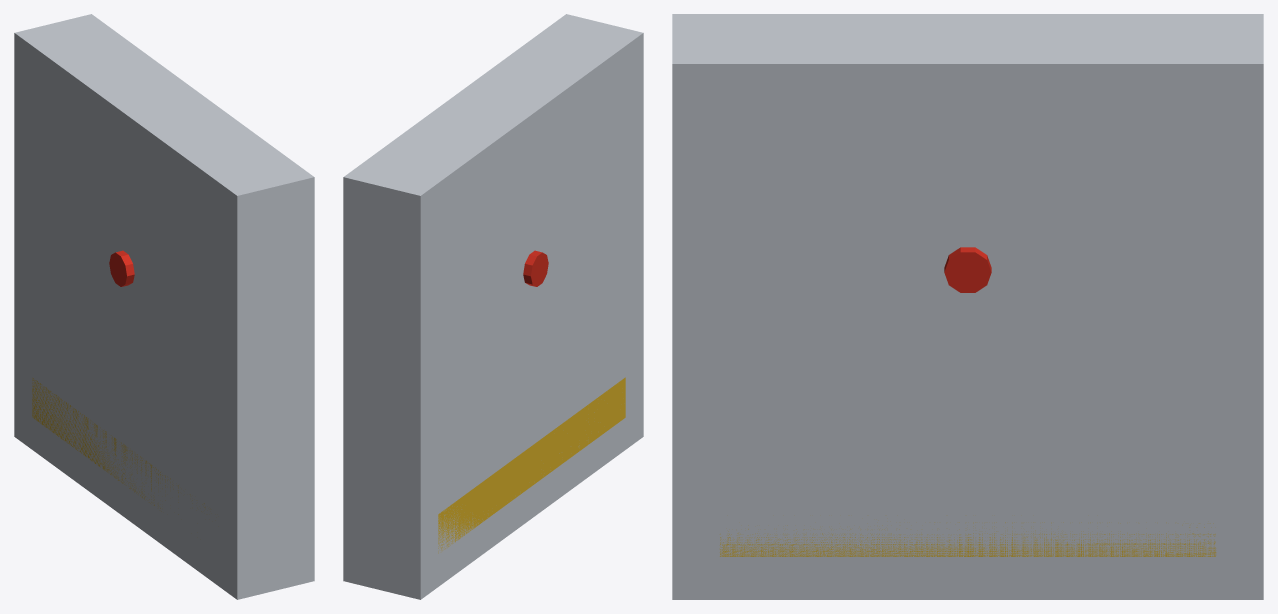
The model's file is blast_door_bottom_right.obj.
3 renders of one model, left to right at view 1: azimuth 30°, elevation 25°; view 2: azimuth 150°, elevation 25°; view 3: azimuth 270°, elevation 25°, orthographic. The views are drawn at different scales.
Parts seen in each view (by area): view 1: blast_door_bottom_right; view 2: blast_door_bottom_right; view 3: blast_door_bottom_right.
Boxes of the visible parts, x1,y1,x2,y2 form: blast_door_bottom_right: (14, 14, 314, 599); blast_door_bottom_right: (343, 14, 643, 599); blast_door_bottom_right: (672, 14, 1263, 599).
Bounding box in the file's own units: 0.24 × 1 × 1.
